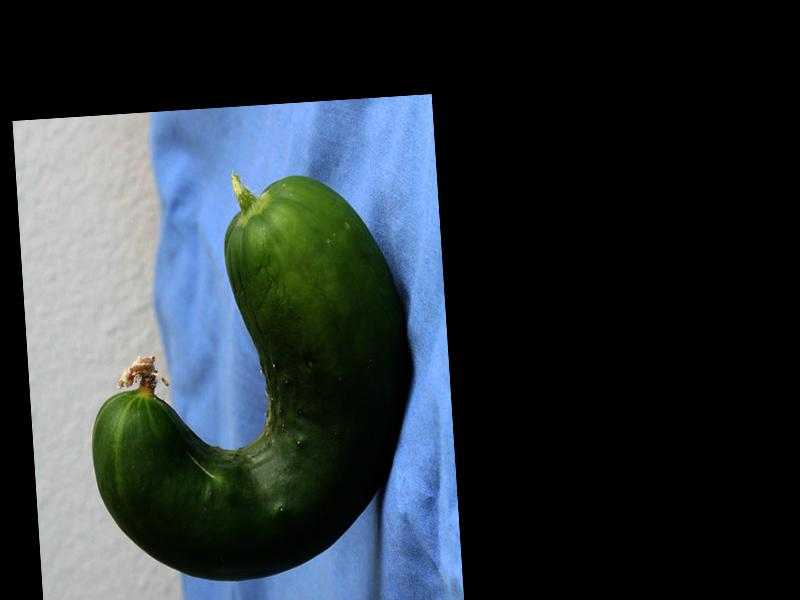Cucumber: (74, 169, 422, 590)
